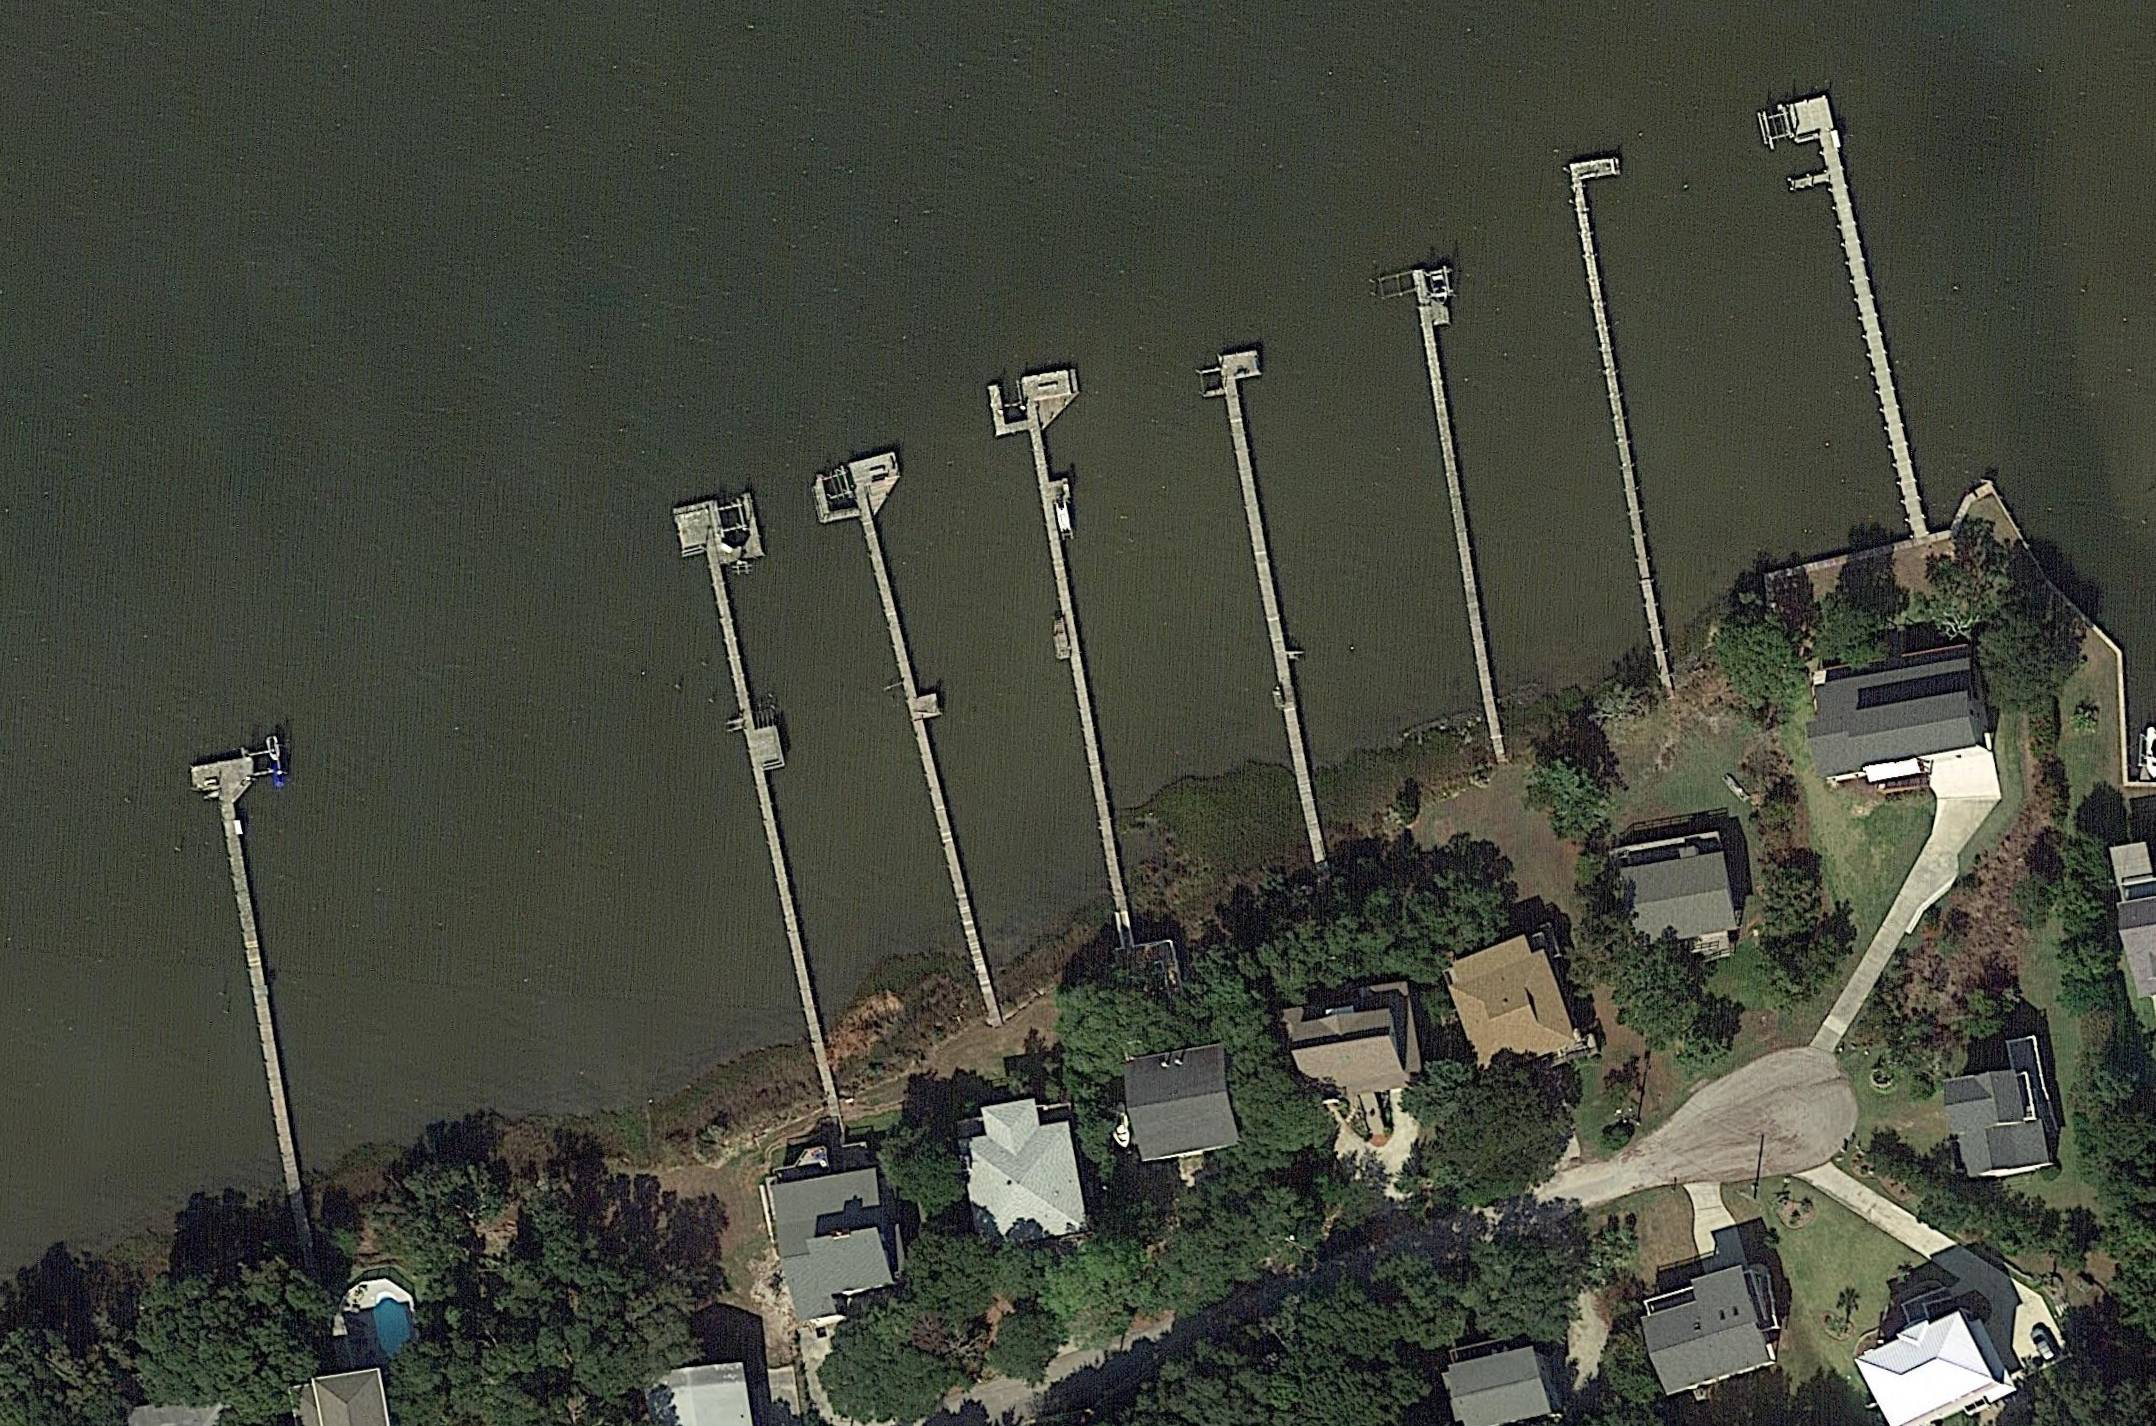harbor: (810, 450, 1017, 987), (987, 368, 1168, 934), (671, 492, 846, 1022), (1757, 95, 1928, 540), (1197, 349, 1341, 842), (189, 758, 328, 1179), (1567, 158, 1690, 606), (1411, 266, 1520, 715)
small vehicle: (2029, 1327, 2057, 1361)
